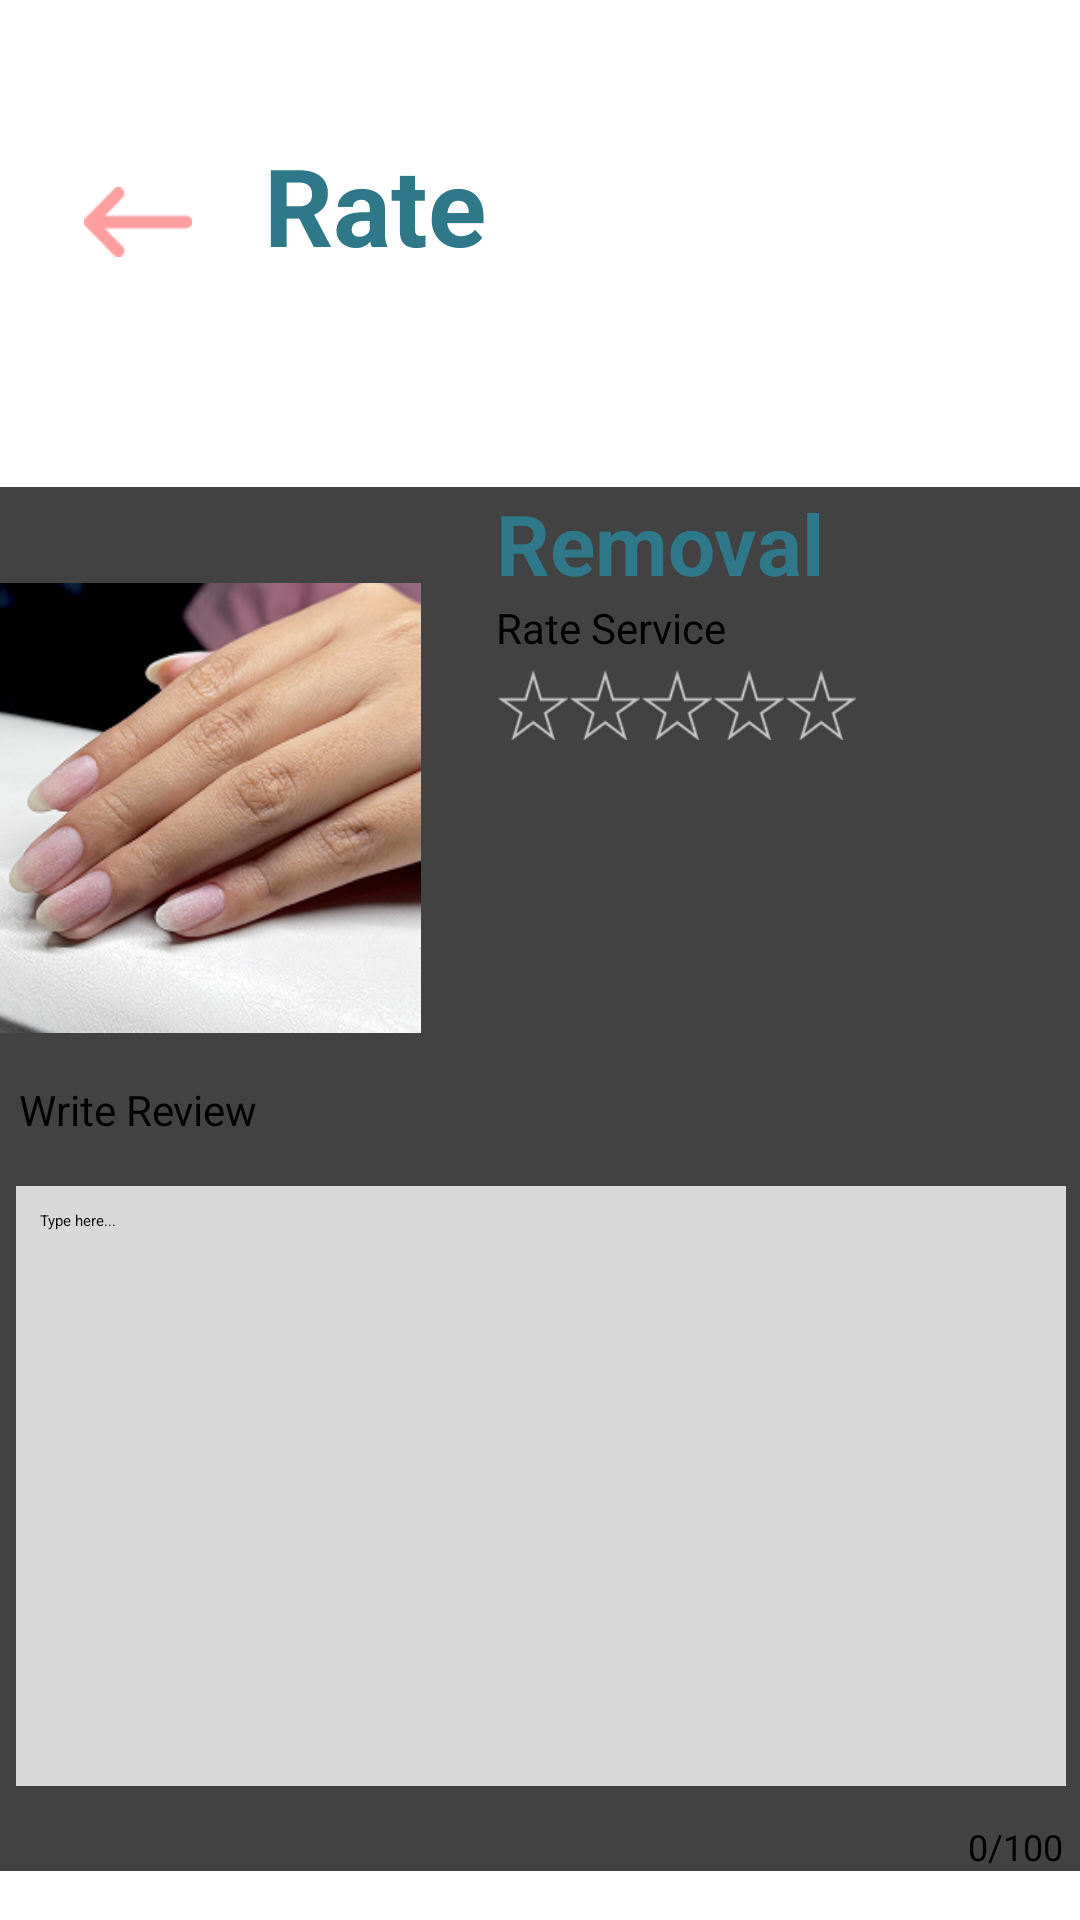

Screen size 1080w x 1920h. Icon name, then its box in pixels as (x1, y1, x2, y2):
backarrow: (84, 187, 192, 257)
star empty: (498, 671, 568, 740), (570, 671, 640, 740), (642, 671, 712, 740), (714, 671, 784, 740), (786, 671, 856, 740)
